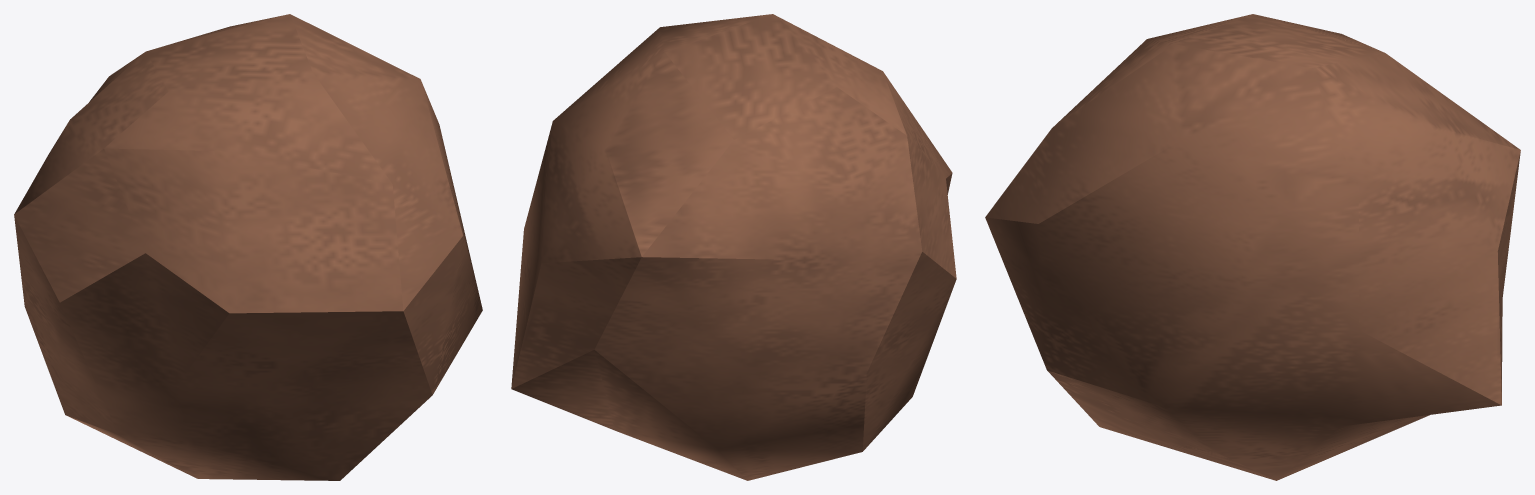
Rendered from RubbleSingle.fbx.
3 views of the same model, side by side, from view 1: azimuth 30°, elevation 25°; view 2: azimuth 150°, elevation 25°; view 3: azimuth 270°, elevation 25° (orthographic). The views are drawn at different scales.
Visible parts, largest first — view 1: Icosphere.001; view 2: Icosphere.001; view 3: Icosphere.001.
Boxes of the visible parts, x1,y1,x2,y2 form: Icosphere.001: (14,14,482,480); Icosphere.001: (511,14,956,480); Icosphere.001: (985,14,1520,480).
Size of the model in its own units: 192 by 190 by 219.
Materials: 1 (1 with a texture image).
